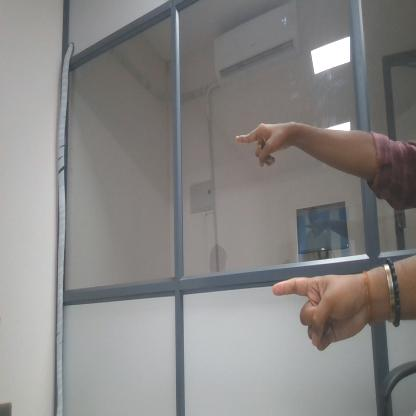Right: (269, 273, 363, 356), (232, 117, 284, 172)
